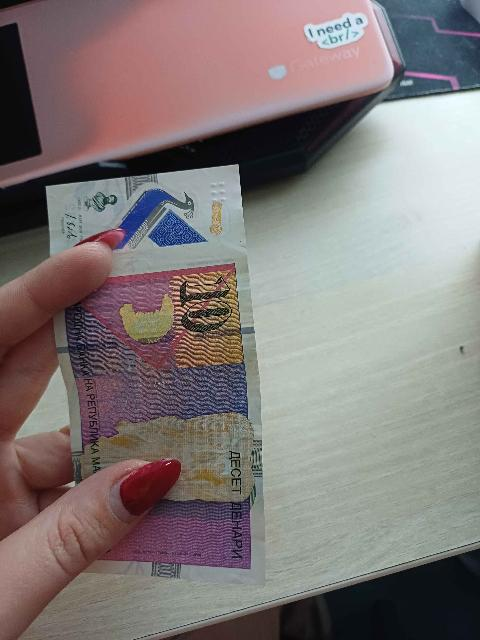note: (45, 167, 267, 586)
